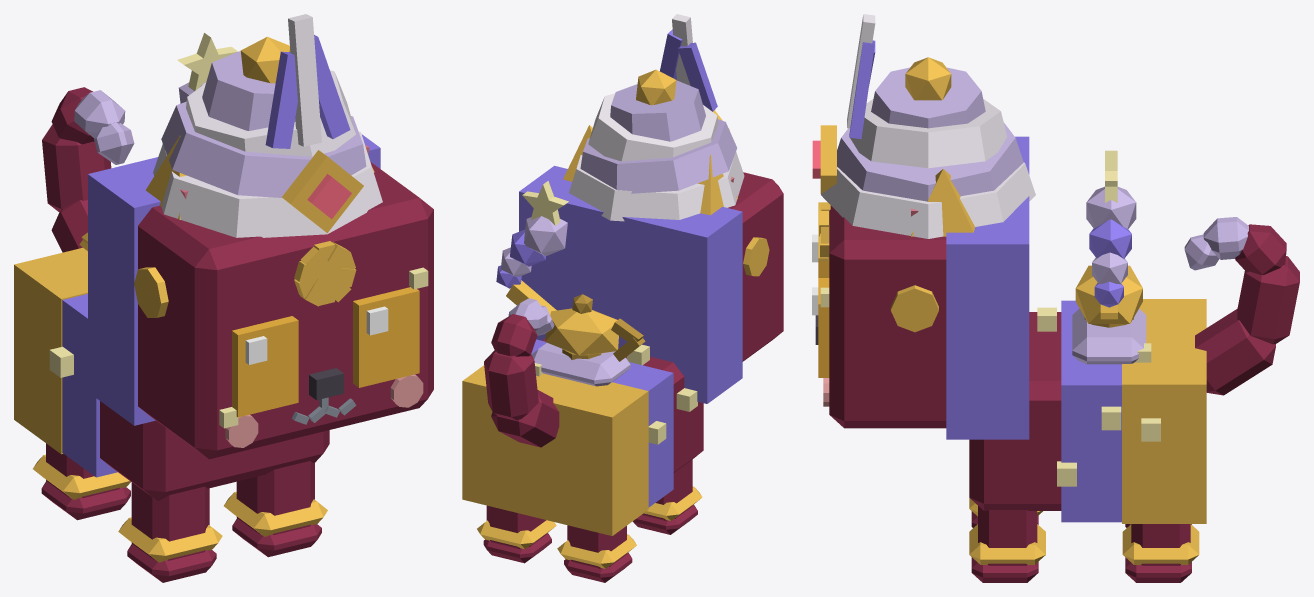
The model's file is CleanACat_Cat_Djinn.fbx.
3 views of the same model, side by side, from view 1: azimuth 30°, elevation 25°; view 2: azimuth 150°, elevation 25°; view 3: azimuth 270°, elevation 25° (orthographic). The views are drawn at different scales.
Visible parts, largest first — view 1: CleanACat_Cat_Djinn_Head, CleanACat_Cat_Djinn_Prop, CleanACat_Cat_Djinn_Body, CleanACat_Cat_Djinn_Tail, CleanACat_Cat_Djinn_LegF2, CleanACat_Cat_Djinn_LegF1, CleanACat_Cat_Djinn_Eye1, CleanACat_Cat_Djinn_Eye2, CleanACat_Cat_Djinn_LegB2, CleanACat_Cat_Djinn_Prop2, CleanACat_Cat_Djinn_Glow, CleanACat_Cat_Djinn_EarR; view 2: CleanACat_Cat_Djinn_Head, CleanACat_Cat_Djinn_Body, CleanACat_Cat_Djinn_Prop, CleanACat_Cat_Djinn_Prop2, CleanACat_Cat_Djinn_Tail, CleanACat_Cat_Djinn_LegB2, CleanACat_Cat_Djinn_LegB1, CleanACat_Cat_Djinn_LegF2, CleanACat_Cat_Djinn_EarR, CleanACat_Cat_Djinn_EarL; view 3: CleanACat_Cat_Djinn_Head, CleanACat_Cat_Djinn_Body, CleanACat_Cat_Djinn_Prop, CleanACat_Cat_Djinn_Tail, CleanACat_Cat_Djinn_Prop2, CleanACat_Cat_Djinn_LegF1, CleanACat_Cat_Djinn_LegB1, CleanACat_Cat_Djinn_EarL, CleanACat_Cat_Djinn_Eye1.
Boxes of the visible parts, x1,y1,x2,y2 form: CleanACat_Cat_Djinn_Head: (88, 134, 433, 459); CleanACat_Cat_Djinn_Prop: (134, 14, 382, 317); CleanACat_Cat_Djinn_Body: (14, 247, 329, 500); CleanACat_Cat_Djinn_Tail: (42, 87, 134, 252); CleanACat_Cat_Djinn_LegF2: (118, 482, 222, 582); CleanACat_Cat_Djinn_LegF1: (224, 461, 327, 557); CleanACat_Cat_Djinn_Eye1: (353, 287, 419, 387); CleanACat_Cat_Djinn_Eye2: (232, 316, 298, 417); CleanACat_Cat_Djinn_LegB2: (33, 443, 130, 520); CleanACat_Cat_Djinn_Prop2: (79, 33, 238, 251); CleanACat_Cat_Djinn_Glow: (307, 174, 351, 218); CleanACat_Cat_Djinn_EarR: (145, 136, 188, 219); CleanACat_Cat_Djinn_Head: (519, 165, 783, 403); CleanACat_Cat_Djinn_Body: (462, 339, 703, 535); CleanACat_Cat_Djinn_Prop: (569, 14, 769, 276); CleanACat_Cat_Djinn_Prop2: (496, 181, 645, 386); CleanACat_Cat_Djinn_Tail: (484, 298, 559, 447); CleanACat_Cat_Djinn_LegB2: (557, 525, 636, 582); CleanACat_Cat_Djinn_LegB1: (477, 505, 556, 563); CleanACat_Cat_Djinn_LegF2: (633, 459, 702, 534); CleanACat_Cat_Djinn_EarR: (697, 154, 737, 215); CleanACat_Cat_Djinn_EarL: (563, 125, 592, 181); CleanACat_Cat_Djinn_Head: (815, 136, 1029, 439); CleanACat_Cat_Djinn_Body: (969, 299, 1206, 523); CleanACat_Cat_Djinn_Prop: (820, 14, 1035, 332); CleanACat_Cat_Djinn_Tail: (1184, 217, 1299, 395); CleanACat_Cat_Djinn_Prop2: (1072, 150, 1146, 364); CleanACat_Cat_Djinn_LegF1: (969, 506, 1045, 582); CleanACat_Cat_Djinn_LegB1: (1122, 524, 1199, 582); CleanACat_Cat_Djinn_EarL: (911, 169, 974, 236); CleanACat_Cat_Djinn_Eye1: (812, 278, 829, 377).
Bounding box in the file's own units: 1.06 × 2.37 × 1.97.
Materials: 1 (1 with a texture image).
